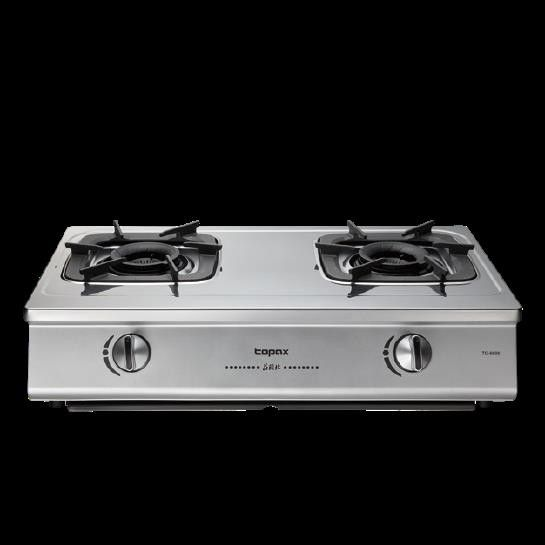gasoven: (24, 216, 526, 417)
